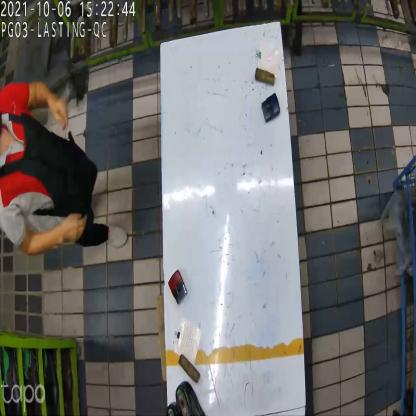stamp: (260, 92, 280, 126), (171, 270, 188, 302)
